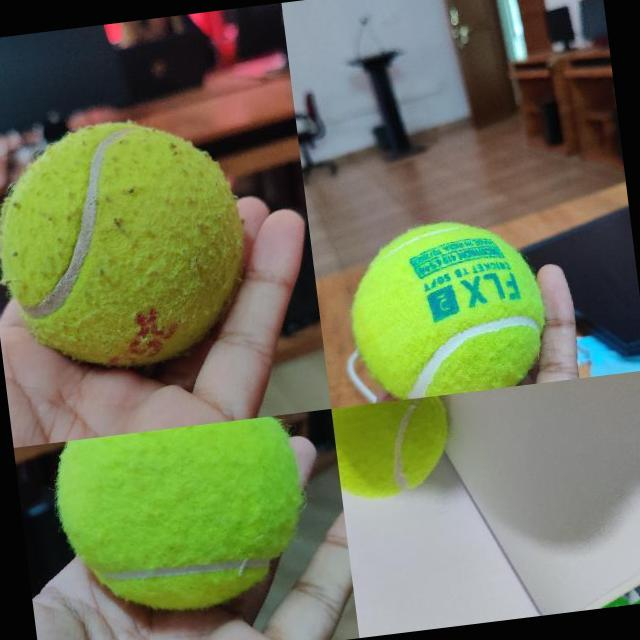Tennis Ball: (0, 108, 258, 381), (49, 413, 314, 624), (341, 210, 553, 404), (331, 394, 457, 506)
